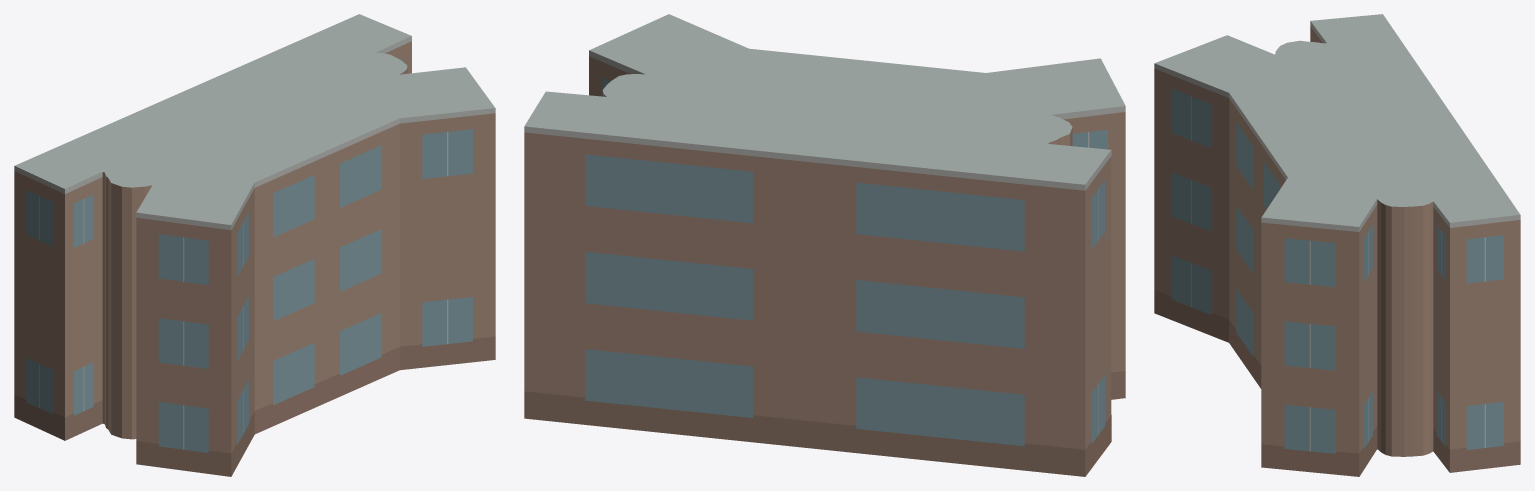
File: survey-upis-33032474.glb
The picture shows the model from 3 angles, left to right: view 1: azimuth 30°, elevation 25°; view 2: azimuth 150°, elevation 25°; view 3: azimuth 270°, elevation 25°; orthographic projection. The views are drawn at different scales.
Visible parts, largest first — view 1: survey-upis-33032474.tmp; view 2: survey-upis-33032474.tmp; view 3: survey-upis-33032474.tmp.
Part boxes in pixels (x1,y1,x2,y2): survey-upis-33032474.tmp: [14, 14, 495, 476]; survey-upis-33032474.tmp: [524, 14, 1125, 476]; survey-upis-33032474.tmp: [1154, 14, 1520, 476].
Size of the model in its own units: 21.85 by 11.95 by 15.87.
